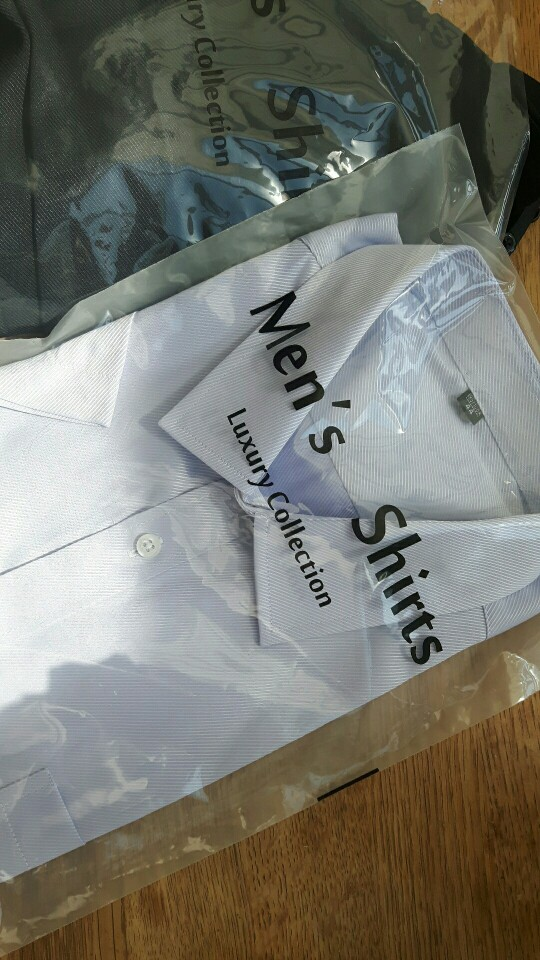shirts: (33, 244, 540, 822)
